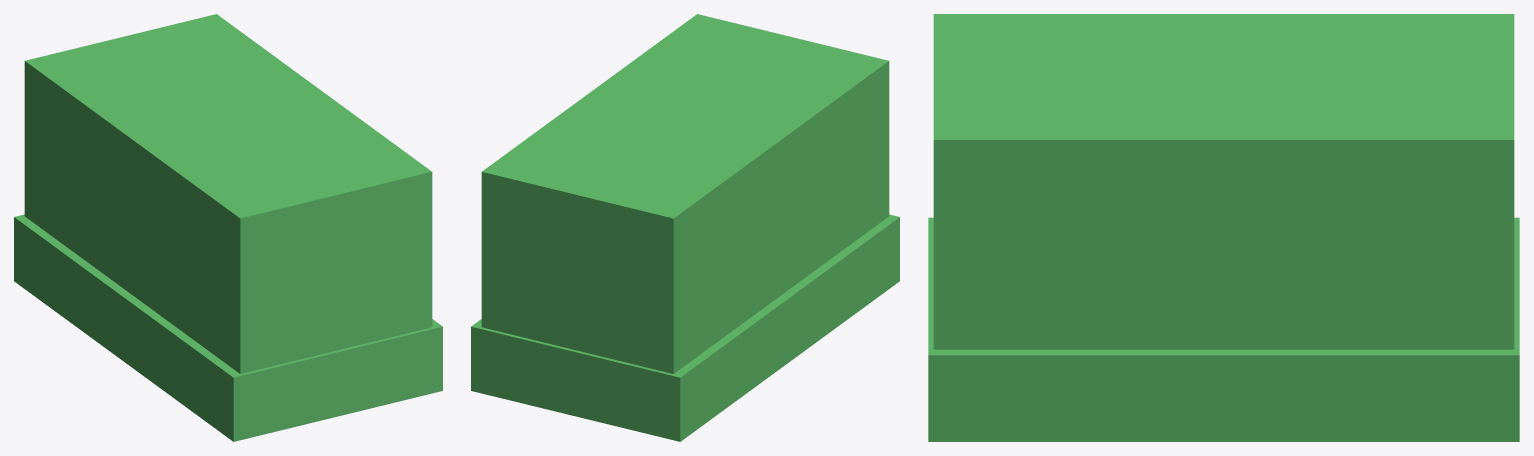
Rendered from battering_ram_collision.glb.
The picture shows the model from 3 angles, left to right: view 1: azimuth 30°, elevation 25°; view 2: azimuth 150°, elevation 25°; view 3: azimuth 270°, elevation 25°; orthographic projection. The views are drawn at different scales.
Visible parts, largest first — view 1: battering_ram-col-canopy, battering_ram-col-chassis; view 2: battering_ram-col-canopy, battering_ram-col-chassis; view 3: battering_ram-col-canopy, battering_ram-col-chassis.
Part boxes in pixels (left/top/right/bottom): battering_ram-col-canopy: left=24, top=14, right=432, bottom=373; battering_ram-col-chassis: left=14, top=214, right=442, bottom=441; battering_ram-col-canopy: left=481, top=14, right=889, bottom=373; battering_ram-col-chassis: left=471, top=214, right=899, bottom=441; battering_ram-col-canopy: left=933, top=14, right=1514, bottom=349; battering_ram-col-chassis: left=928, top=217, right=1519, bottom=441.
Bounding box in the file's own units: 3 × 3.01 × 5.45.
